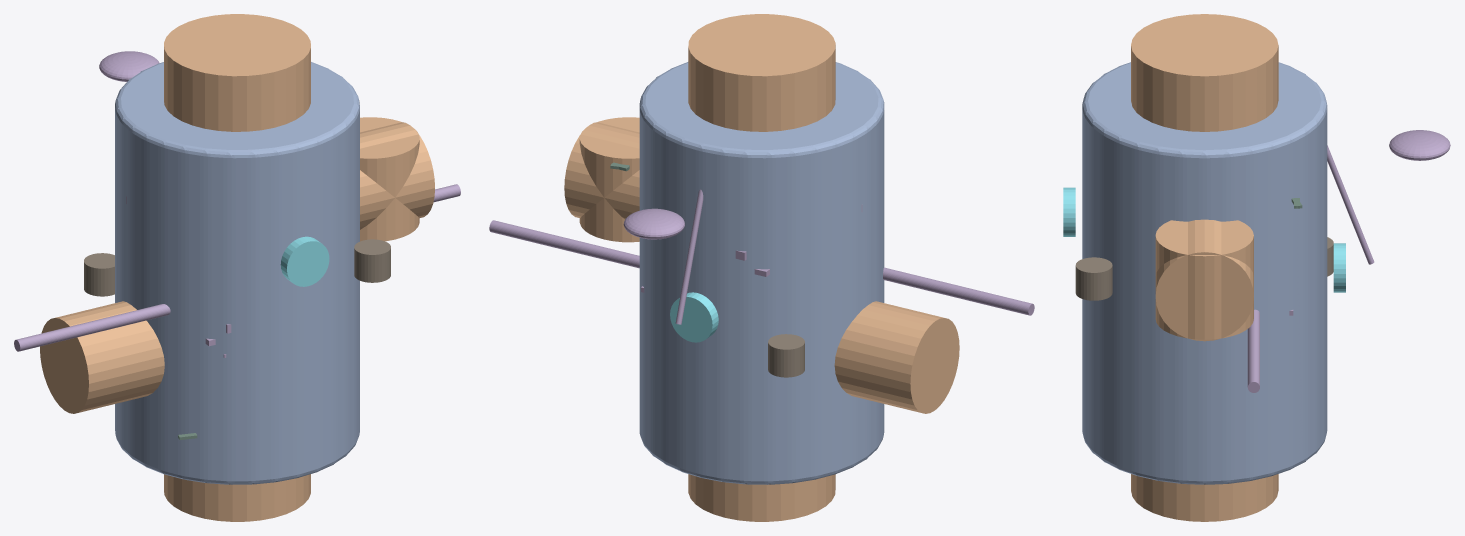
Rendered from SpaceStationModule3D.glb.
The picture shows the model from 3 angles, left to right: view 1: azimuth 30°, elevation 25°; view 2: azimuth 150°, elevation 25°; view 3: azimuth 270°, elevation 25°; orthographic projection.
Visible parts, largest first — view 1: StationModule_MainBody, DockingPort_Front, SidePort_2, DockingPort_Back, SidePort_1, SidePort_1.001, UtilityPipe_2, ObservationWindow_2, ExhaustVent_1, ExhaustVent_2, AntennaDish; view 2: StationModule_MainBody, DockingPort_Front, SidePort_2, DockingPort_Back, SidePort_1, SidePort_1.001, UtilityPipe_2, UtilityPipe_1, ObservationWindow_1, AntennaDish, ExhaustVent_2, Antenna; view 3: StationModule_MainBody, DockingPort_Front, SidePort_1, SidePort_1.001, DockingPort_Back, ExhaustVent_1, AntennaDish, UtilityPipe_1, Antenna, ObservationWindow_1, ObservationWindow_2.
Boxes of the visible parts, left/top/right/bottom form: StationModule_MainBody: left=115, top=62, right=359, bottom=484; DockingPort_Front: left=164, top=14, right=310, bottom=131; SidePort_2: left=40, top=301, right=164, bottom=413; DockingPort_Back: left=164, top=474, right=310, bottom=521; SidePort_1: left=360, top=117, right=419, bottom=241; SidePort_1.001: left=360, top=122, right=434, bottom=229; UtilityPipe_2: left=14, top=304, right=170, bottom=351; ObservationWindow_2: left=280, top=236, right=329, bottom=286; ExhaustVent_1: left=354, top=239, right=390, bottom=282; ExhaustVent_2: left=84, top=253, right=114, bottom=296; AntennaDish: left=99, top=51, right=159, bottom=81; StationModule_MainBody: left=639, top=62, right=884, bottom=484; DockingPort_Front: left=688, top=14, right=835, bottom=131; SidePort_2: left=834, top=301, right=959, bottom=413; DockingPort_Back: left=688, top=474, right=835, bottom=521; SidePort_1: left=579, top=117, right=639, bottom=242; SidePort_1.001: left=564, top=122, right=639, bottom=219; UtilityPipe_2: left=883, top=267, right=1034, bottom=315; UtilityPipe_1: left=489, top=220, right=639, bottom=268; ObservationWindow_1: left=670, top=292, right=718, bottom=342; AntennaDish: left=623, top=208, right=684, bottom=239; ExhaustVent_2: left=768, top=334, right=804, bottom=377; Antenna: left=675, top=189, right=703, bottom=324; StationModule_MainBody: left=1082, top=62, right=1327, bottom=484; DockingPort_Front: left=1131, top=14, right=1278, bottom=131; SidePort_1: left=1155, top=220, right=1253, bottom=339; SidePort_1.001: left=1155, top=219, right=1253, bottom=341; DockingPort_Back: left=1131, top=474, right=1278, bottom=521; ExhaustVent_1: left=1075, top=257, right=1112, bottom=300; AntennaDish: left=1389, top=130, right=1450, bottom=160; UtilityPipe_1: left=1247, top=309, right=1259, bottom=392; Antenna: left=1327, top=145, right=1374, bottom=264; ObservationWindow_1: left=1333, top=243, right=1345, bottom=292; ObservationWindow_2: left=1063, top=187, right=1075, bottom=236.
Size of the model in its own units: 9.2 by 8 by 6.3.
